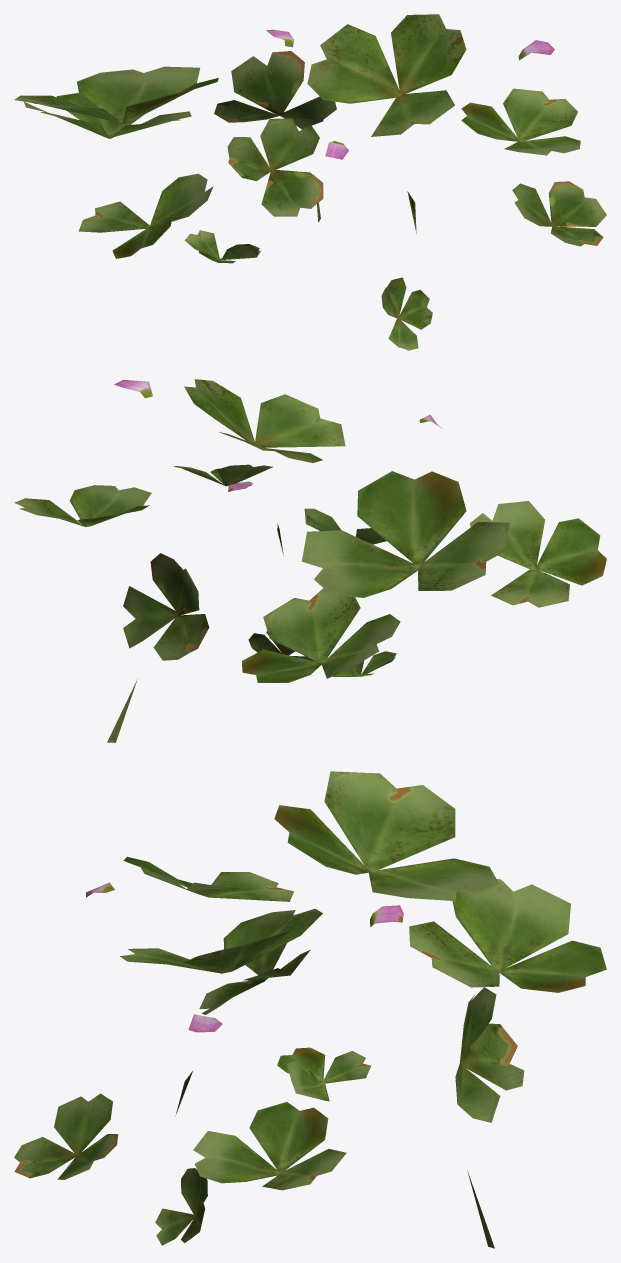
Rendered from shrub-leafy-04-lod2.glb.
3 renders of one model, top to bottom at view 1: azimuth 30°, elevation 25°; view 2: azimuth 150°, elevation 25°; view 3: azimuth 270°, elevation 25°, orthographic. The views are drawn at different scales.
Parts seen in each view (by area): view 1: shrub-leafy-04_MATERIAL_BATCH; view 2: shrub-leafy-04_MATERIAL_BATCH; view 3: shrub-leafy-04_MATERIAL_BATCH.
Part boxes in pixels (left/top/right/bottom): shrub-leafy-04_MATERIAL_BATCH: left=14, top=14, right=606, bottom=350; shrub-leafy-04_MATERIAL_BATCH: left=14, top=379, right=606, bottom=742; shrub-leafy-04_MATERIAL_BATCH: left=14, top=771, right=606, bottom=1248.
Size of the model in its own units: 1.12 by 0.6 by 0.9374.
Materials: 1 (1 with a texture image).
